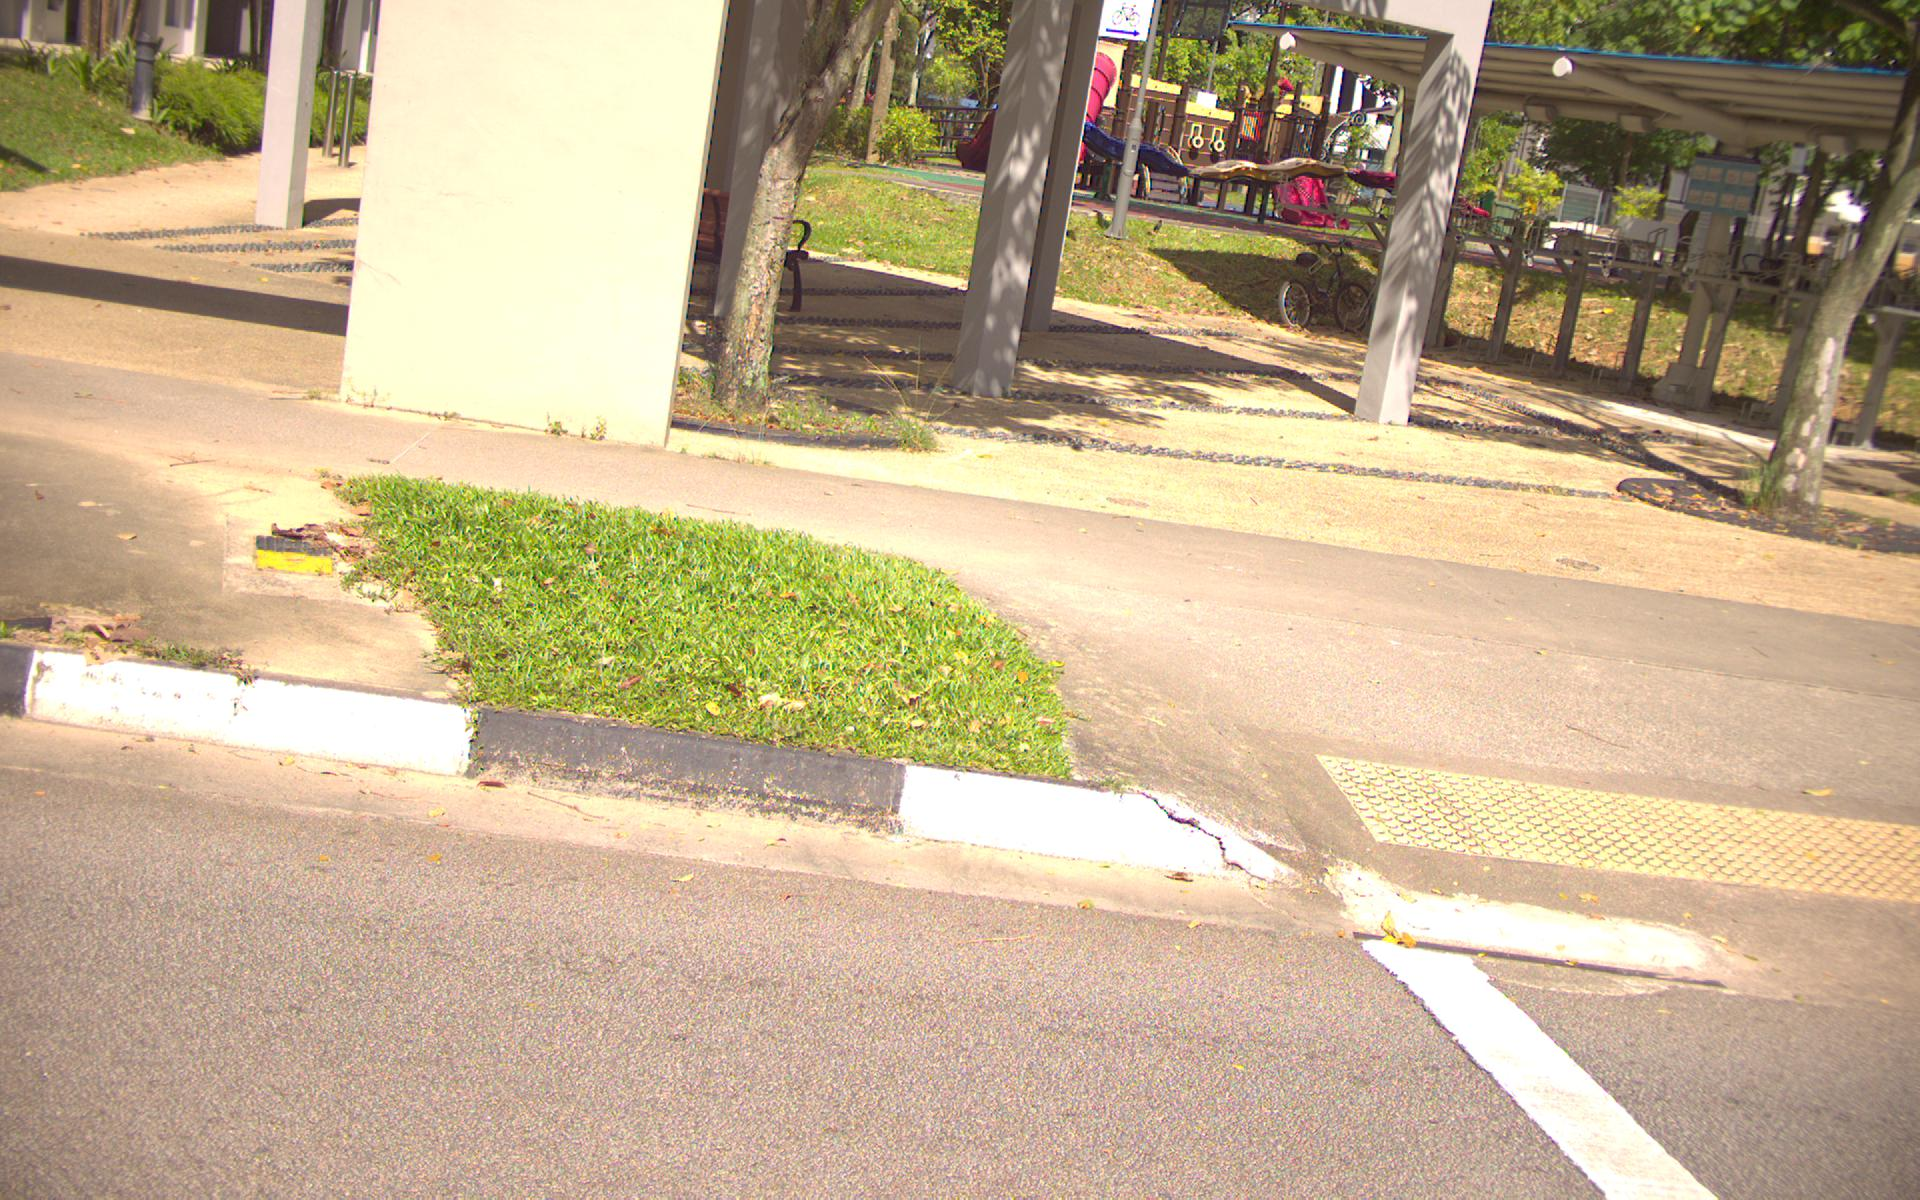pathway_low: (980, 388, 1645, 825), (4, 188, 321, 625)
road_turf_low: (482, 527, 889, 735)
